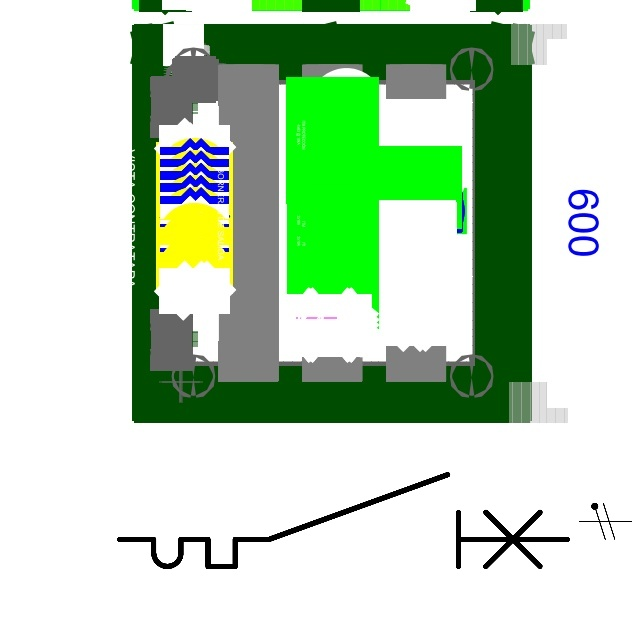interruptor_termomagnetico: (108, 463, 578, 578)
